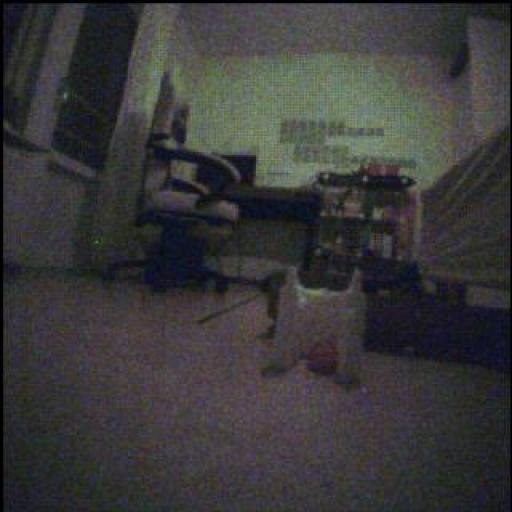basket: (307, 336, 341, 377)
